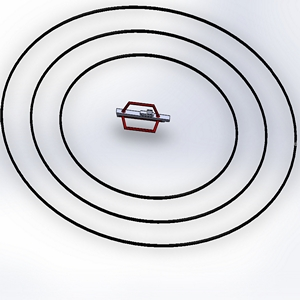circle: (1, 1, 299, 254)
submarine: (108, 92, 180, 144)
